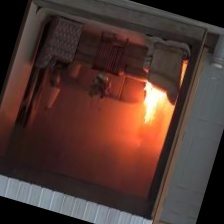fire: (115, 86, 174, 156)
